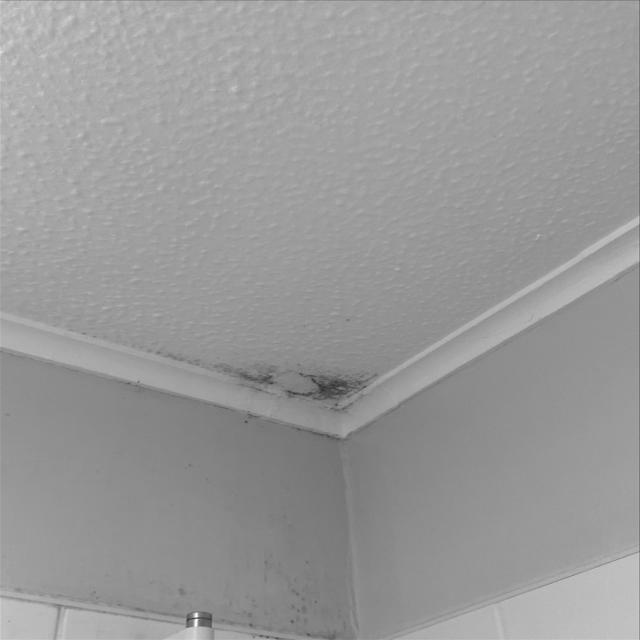stain marks: (3, 539, 360, 640), (141, 326, 404, 436)
